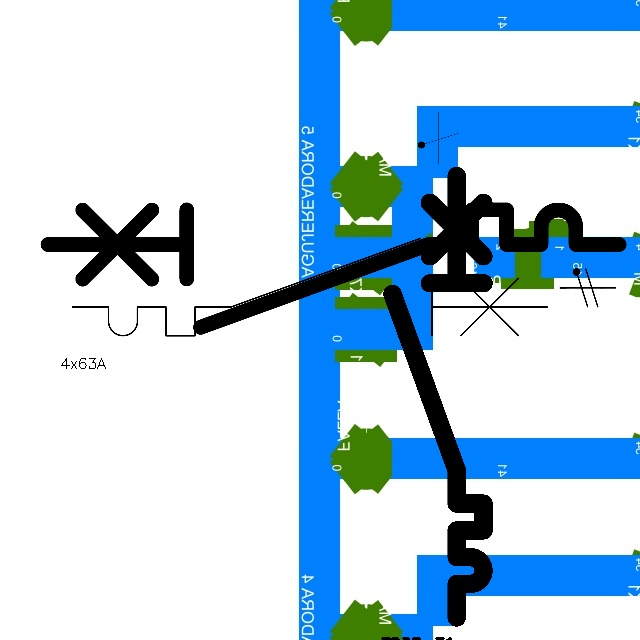interruptor_termomagnetico: (33, 195, 634, 342), (60, 226, 559, 348), (381, 164, 495, 629)
